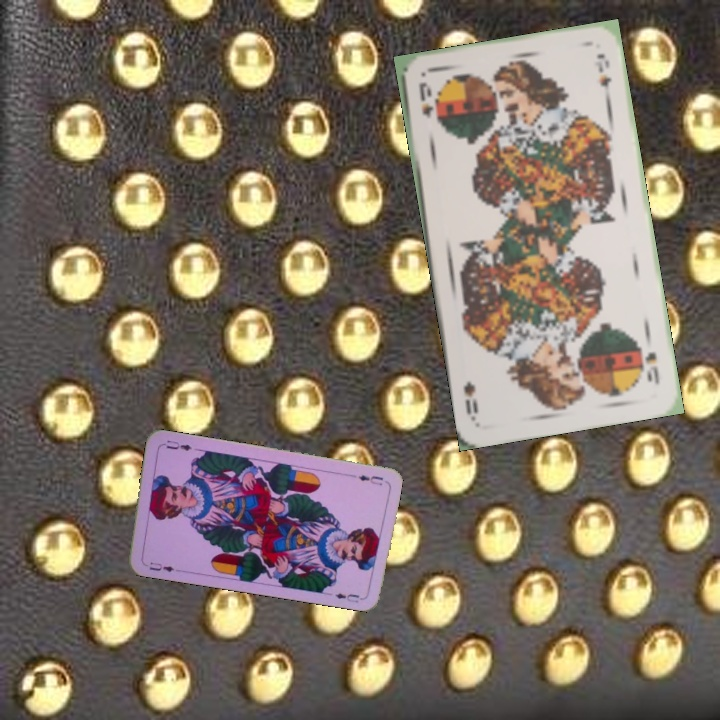EU: (145, 558, 181, 575), (354, 470, 385, 487)
SO: (414, 78, 436, 120), (641, 348, 663, 387)
